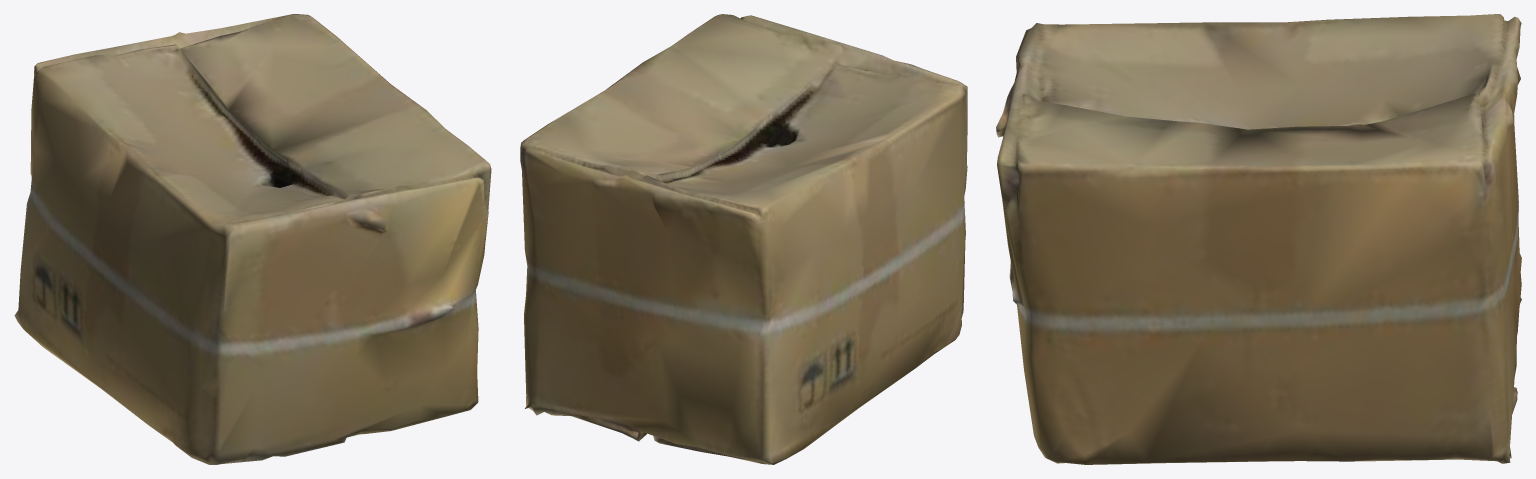
The model's file is cardboard_box_01.glb.
The picture shows the model from 3 angles, left to right: view 1: azimuth 30°, elevation 25°; view 2: azimuth 150°, elevation 25°; view 3: azimuth 270°, elevation 25°; orthographic projection. The views are drawn at different scales.
Visible parts, largest first — view 1: cardboard_box_01; view 2: cardboard_box_01; view 3: cardboard_box_01.
Boxes of the visible parts, box(x1,y1,x2,y2) form: cardboard_box_01: box(14, 14, 491, 464); cardboard_box_01: box(520, 14, 967, 464); cardboard_box_01: box(996, 14, 1521, 464).
Bounding box in the file's own units: 0.3867 × 0.3407 × 0.5159.
Materials: 1 (1 with a texture image).
